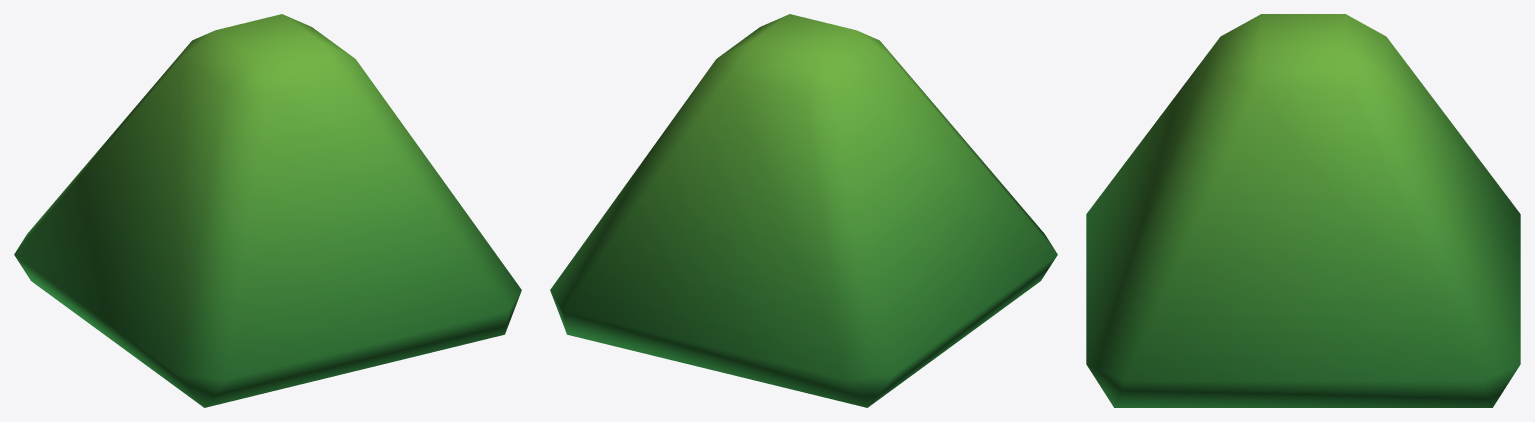
File: Bush_4_A_Color1.glb
3 views of the same model, side by side, from view 1: azimuth 30°, elevation 25°; view 2: azimuth 150°, elevation 25°; view 3: azimuth 270°, elevation 25° (orthographic). The views are drawn at different scales.
Visible parts, largest first — view 1: Bush_4_A_Color1; view 2: Bush_4_A_Color1; view 3: Bush_4_A_Color1.
Boxes of the visible parts, <box> form: Bush_4_A_Color1: <box>14,14,521,407</box>; Bush_4_A_Color1: <box>550,14,1057,407</box>; Bush_4_A_Color1: <box>1086,14,1520,407</box>.
Bounding box in the file's own units: 0.5768 × 0.4344 × 0.5768.
Materials: 1 (1 with a texture image).
